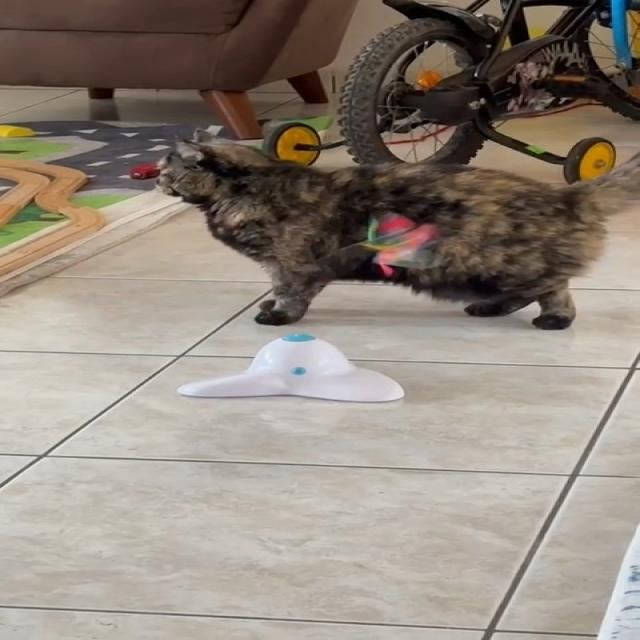authorized: (153, 128, 639, 331)
